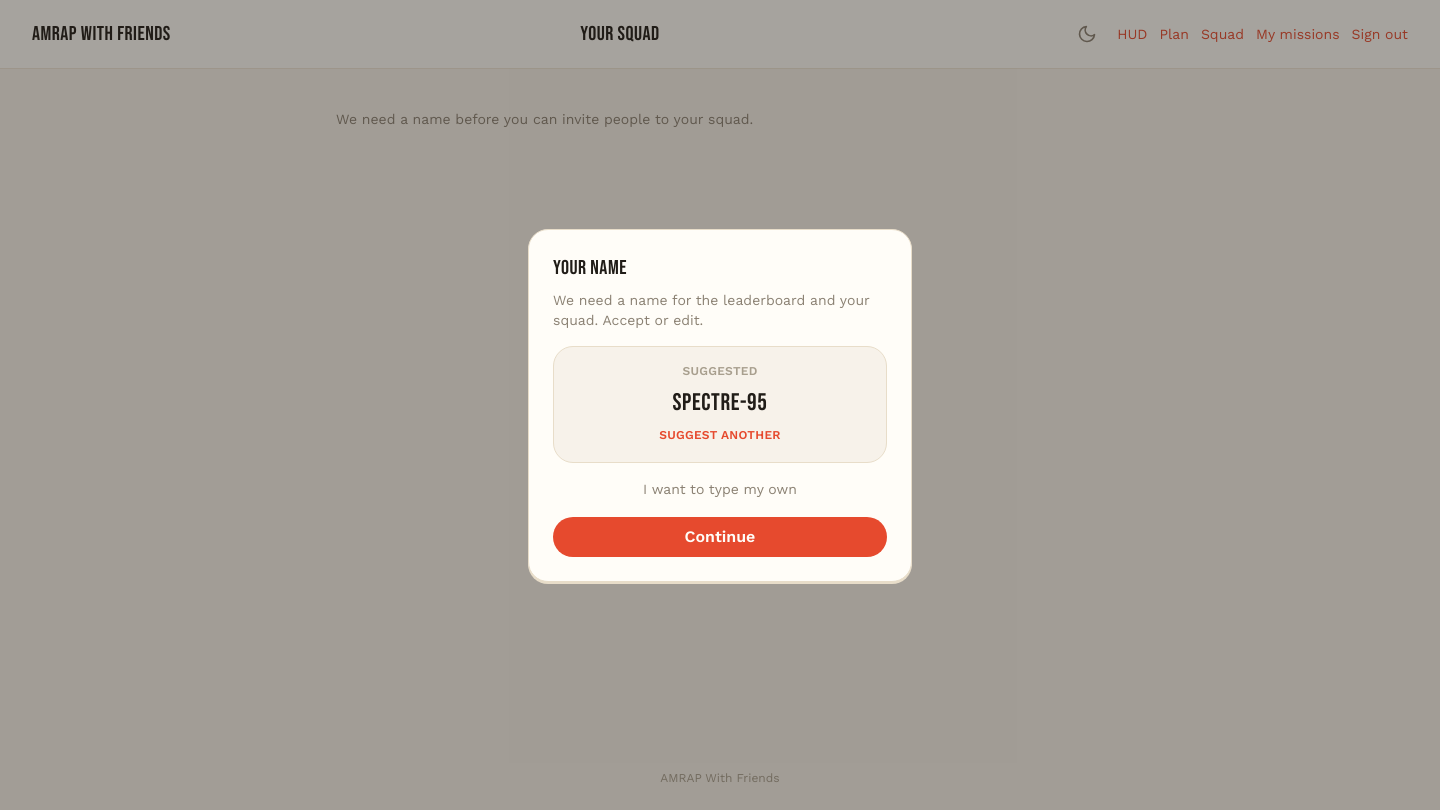
SquadPage › opens the identity overlay when fetchMySquad requires intake, then reloads
This screenshot has width=1440, height=810.
Expected: the heading "Your name" is shown, [553,256,627,280]
Click the button "Continue" at x=720, y=536, box [553,516,887,556]
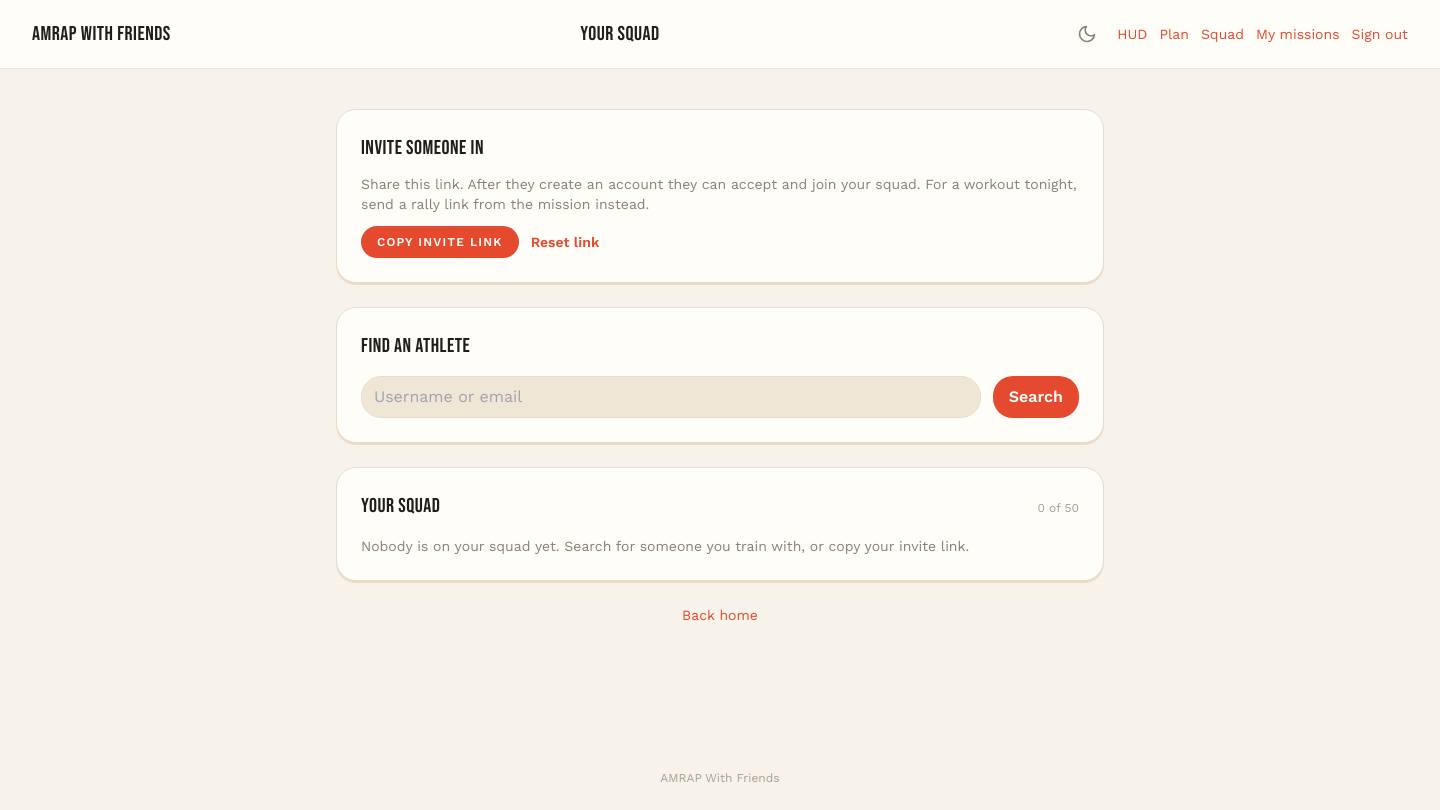
Result: the text "Nobody is on your squad yet" is shown at [361,538,969,554]
